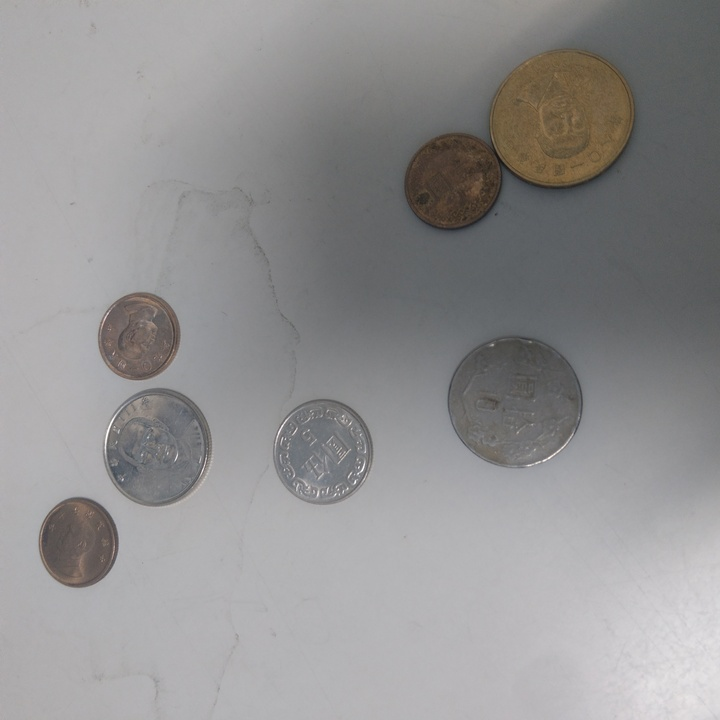1 dollar: (404, 132, 503, 233), (96, 292, 182, 382), (37, 496, 120, 589)
10 dollar: (444, 338, 586, 472), (101, 389, 216, 511)
5 dollar: (274, 398, 375, 508)
50 dollar: (491, 49, 637, 189)
